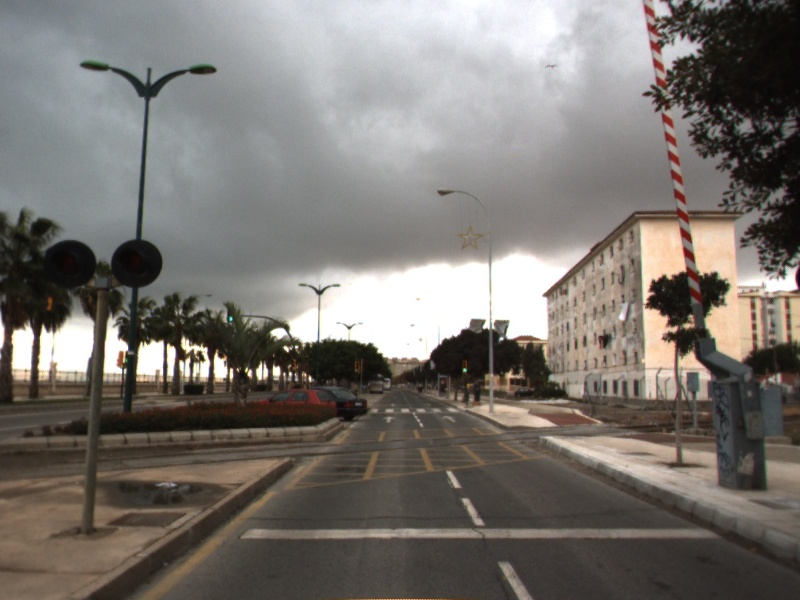STRAIGHT: (441, 413, 459, 424), (380, 414, 398, 425)
